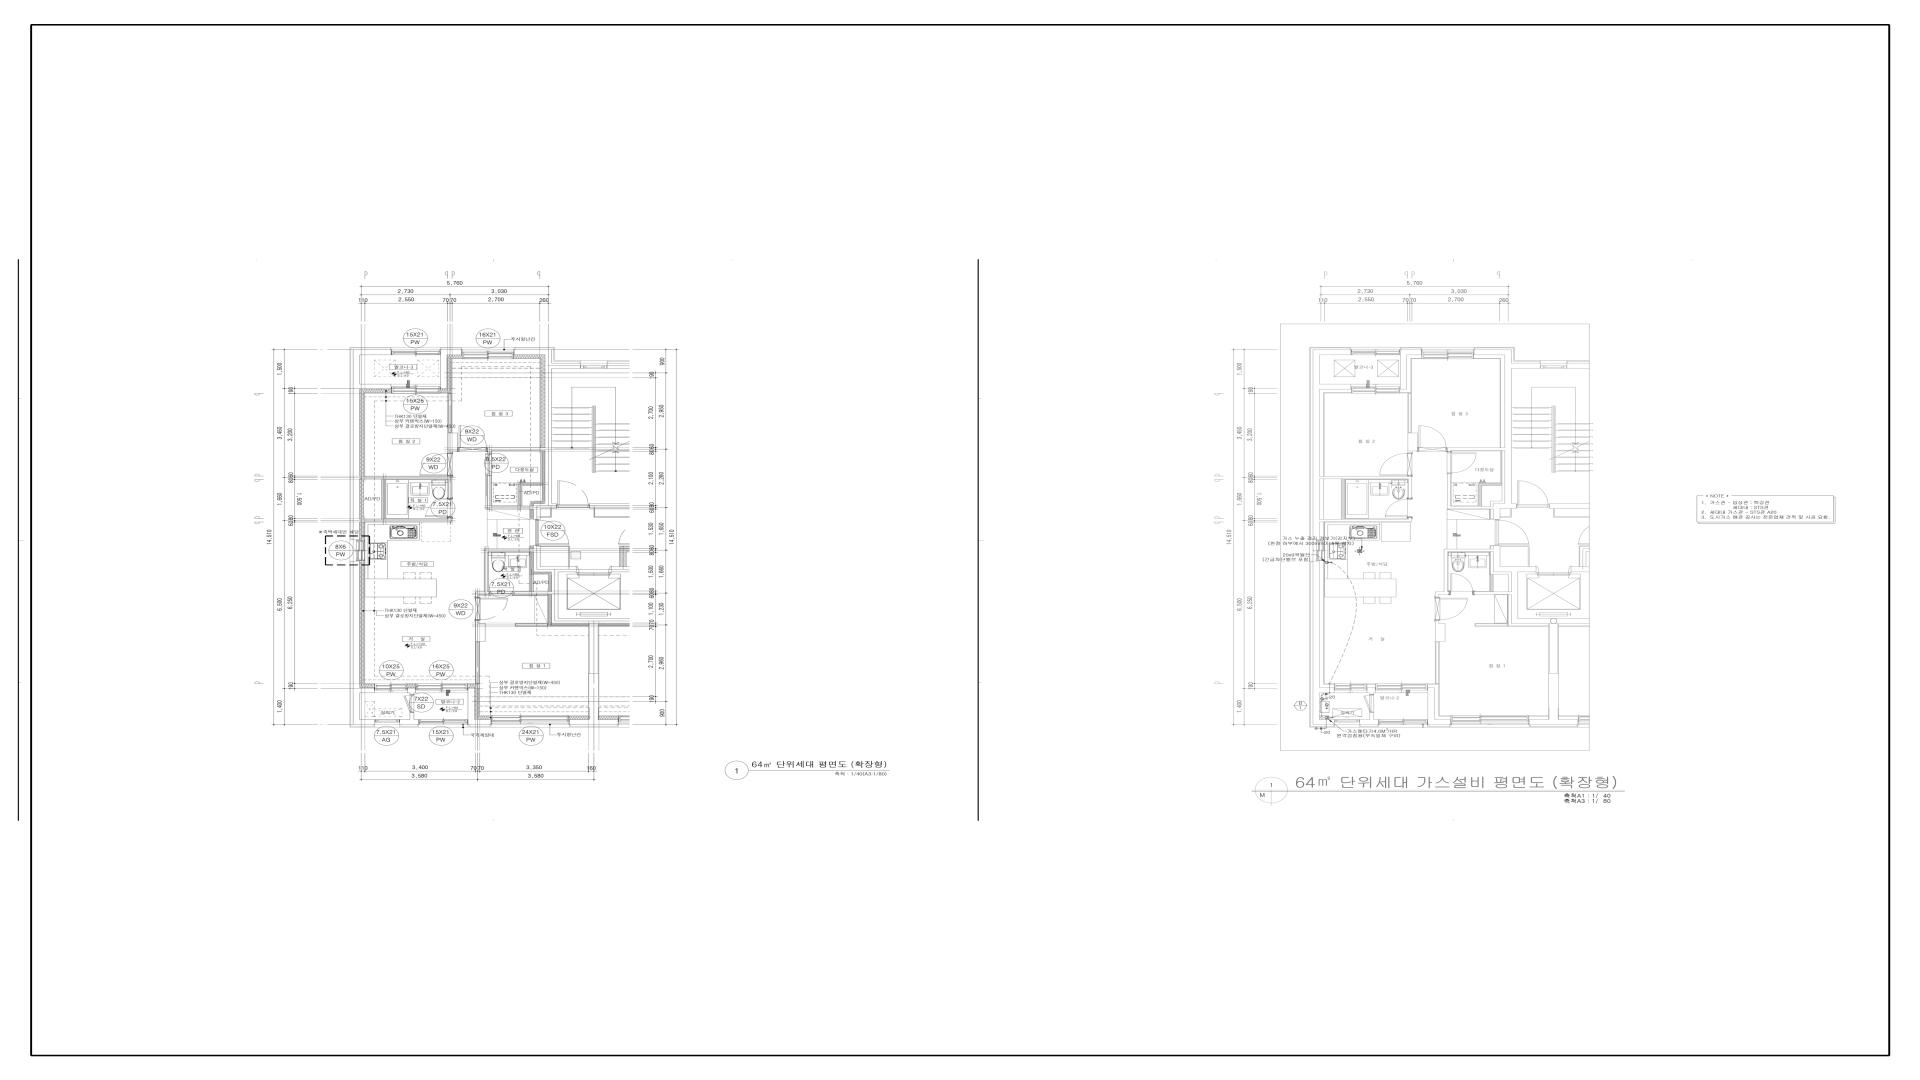door: (1493, 520, 1530, 546), (1516, 480, 1549, 509), (556, 480, 589, 509), (534, 520, 570, 546), (418, 451, 452, 476), (458, 425, 488, 452), (475, 597, 509, 621), (1418, 425, 1448, 451), (1379, 452, 1412, 476), (1435, 597, 1468, 621), (1448, 451, 1477, 473), (425, 497, 452, 518), (1385, 498, 1412, 518), (1449, 574, 1474, 595), (404, 694, 414, 712), (485, 454, 491, 476)
wall: (534, 546, 630, 624), (349, 347, 392, 520), (514, 347, 582, 447), (1474, 349, 1540, 448), (570, 624, 618, 728), (1448, 448, 1516, 520), (1511, 567, 1589, 624), (349, 560, 375, 694), (475, 549, 534, 597), (514, 355, 545, 448), (1435, 549, 1493, 597), (1313, 560, 1335, 694), (360, 389, 392, 476), (1530, 674, 1578, 725), (1313, 518, 1412, 541), (360, 476, 452, 498), (1320, 476, 1412, 498), (360, 560, 375, 688), (485, 476, 534, 509), (1313, 349, 1352, 389), (547, 595, 588, 626), (545, 368, 551, 504), (440, 347, 462, 389), (468, 688, 491, 728), (530, 551, 551, 592), (1313, 389, 1320, 520), (349, 694, 375, 728), (1400, 349, 1422, 389), (1428, 688, 1451, 725), (468, 683, 491, 720), (440, 355, 462, 393), (530, 451, 545, 506), (1313, 694, 1335, 725), (447, 393, 458, 451), (1478, 484, 1502, 506), (1548, 624, 1559, 674), (520, 484, 542, 506), (1493, 546, 1511, 572), (488, 447, 553, 454), (349, 518, 452, 522), (534, 504, 556, 520), (400, 712, 419, 728), (1360, 713, 1379, 725), (1435, 621, 1445, 642), (620, 546, 630, 567), (475, 621, 485, 642), (475, 642, 480, 684), (1549, 504, 1589, 509), (589, 504, 629, 509), (349, 522, 360, 541), (1435, 641, 1439, 684), (1408, 433, 1418, 451), (381, 479, 385, 520), (360, 479, 364, 520), (1341, 479, 1345, 520), (607, 363, 630, 368), (1567, 363, 1589, 368), (1571, 567, 1589, 572), (1474, 592, 1511, 595), (612, 567, 630, 572), (514, 592, 551, 595), (599, 624, 630, 626), (516, 624, 547, 626), (599, 716, 618, 720), (570, 716, 588, 720), (360, 522, 364, 541), (530, 575, 534, 592), (407, 688, 417, 694), (1490, 574, 1493, 592), (530, 509, 534, 520), (1367, 688, 1375, 694), (407, 684, 417, 688)
window: (491, 716, 570, 728), (1451, 716, 1530, 725), (462, 347, 514, 359), (1422, 349, 1474, 359), (1375, 683, 1428, 691), (1350, 386, 1400, 393), (392, 386, 440, 393), (417, 684, 468, 690), (392, 349, 440, 355), (1352, 349, 1400, 355), (375, 684, 407, 691), (1335, 683, 1367, 690), (1316, 541, 1325, 560), (419, 723, 468, 725), (1379, 723, 1428, 725), (1540, 365, 1567, 368), (375, 720, 400, 723), (582, 365, 607, 368), (1335, 720, 1360, 723), (1578, 723, 1589, 725)
